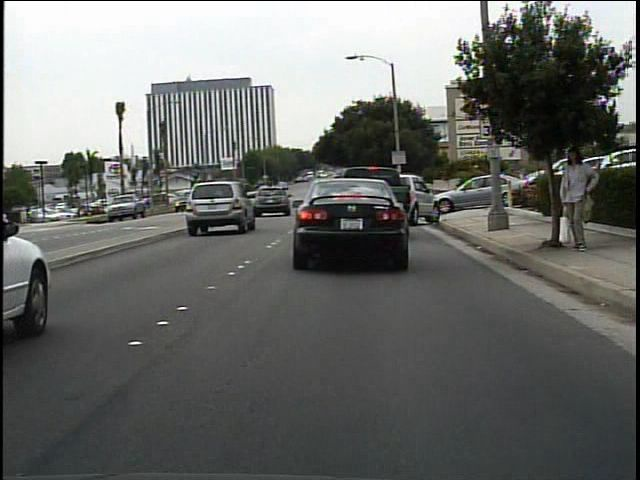person: (556, 140, 601, 254)
